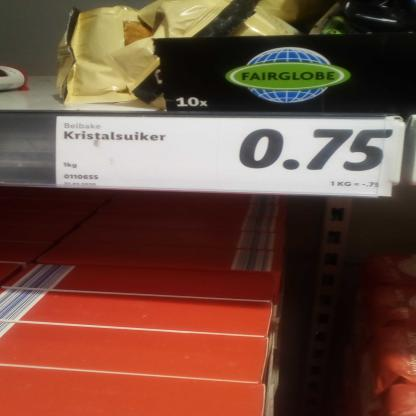prtg: (56, 117, 404, 199)
